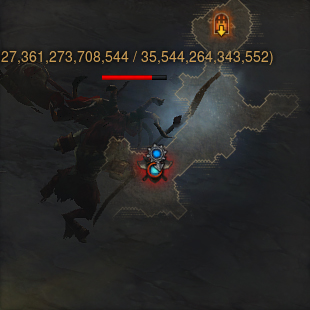Exit: (213, 11, 231, 38)
